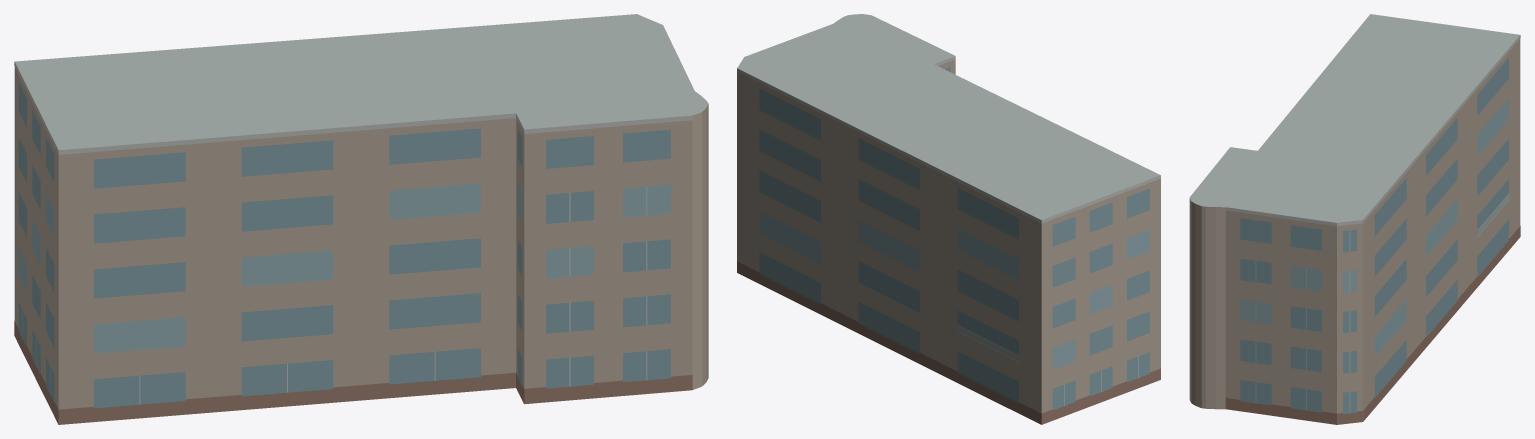
The model's file is survey-upis-32892018.glb.
The picture shows the model from 3 angles, left to right: view 1: azimuth 30°, elevation 25°; view 2: azimuth 150°, elevation 25°; view 3: azimuth 270°, elevation 25°; orthographic projection. The views are drawn at different scales.
Parts seen in each view (by area): view 1: survey-upis-32892018.tmp; view 2: survey-upis-32892018.tmp; view 3: survey-upis-32892018.tmp.
Part boxes in pixels (<box>): survey-upis-32892018.tmp: <box>14,14,708,424</box>; survey-upis-32892018.tmp: <box>737,14,1160,424</box>; survey-upis-32892018.tmp: <box>1189,14,1520,424</box>.
Bounding box in the file's own units: 32.16 × 14.5 × 21.54.
